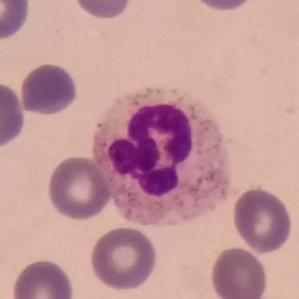Neutrophil: (91, 80, 234, 229)
RBC: (87, 225, 160, 292), (44, 154, 112, 222), (230, 186, 294, 255), (18, 61, 80, 117), (208, 245, 269, 299), (10, 257, 76, 299), (0, 79, 28, 152), (0, 0, 33, 43), (70, 0, 134, 21), (186, 0, 260, 13)
